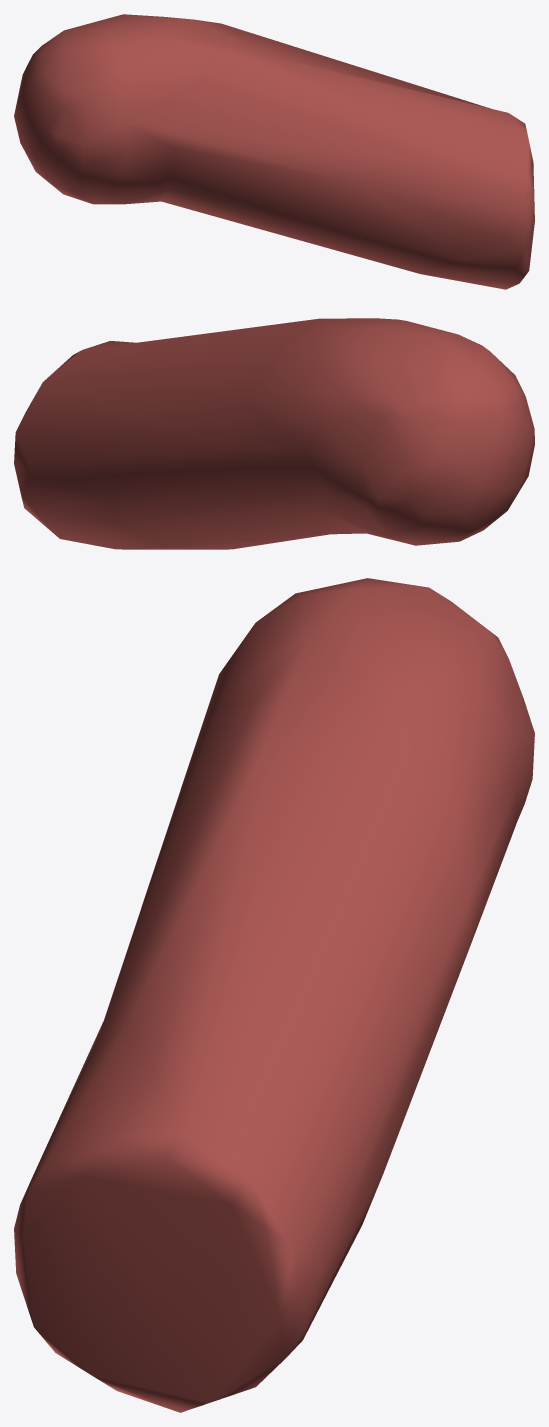
The model's file is FMA4685.glb.
3 renders of one model, top to bottom at view 1: azimuth 30°, elevation 25°; view 2: azimuth 150°, elevation 25°; view 3: azimuth 270°, elevation 25°, orthographic. The views are drawn at different scales.
Parts seen in each view (by area): view 1: FMA4685; view 2: FMA4685; view 3: FMA4685.
Part boxes in pixels (x1=…): FMA4685: x1=14, y1=14, x2=534, y2=289; FMA4685: x1=14, y1=318, x2=534, y2=549; FMA4685: x1=14, y1=578, x2=534, y2=1412.
Size of the model in its own units: 0.0111 by 0.00691 by 0.00623.
